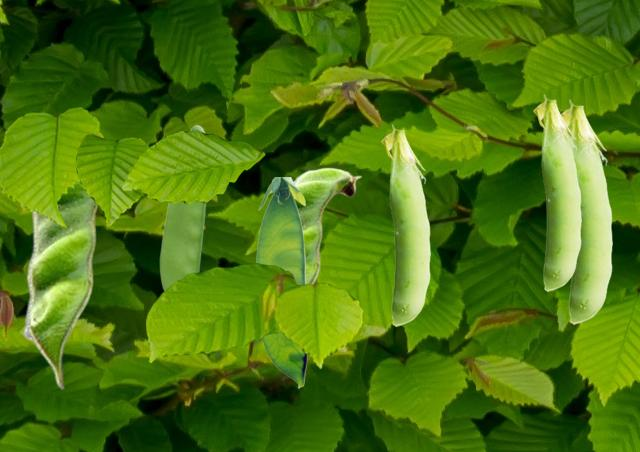pea: (22, 183, 100, 389), (561, 99, 611, 323), (255, 177, 306, 387), (381, 124, 429, 325), (533, 94, 580, 290), (293, 167, 361, 283), (159, 124, 206, 290)
